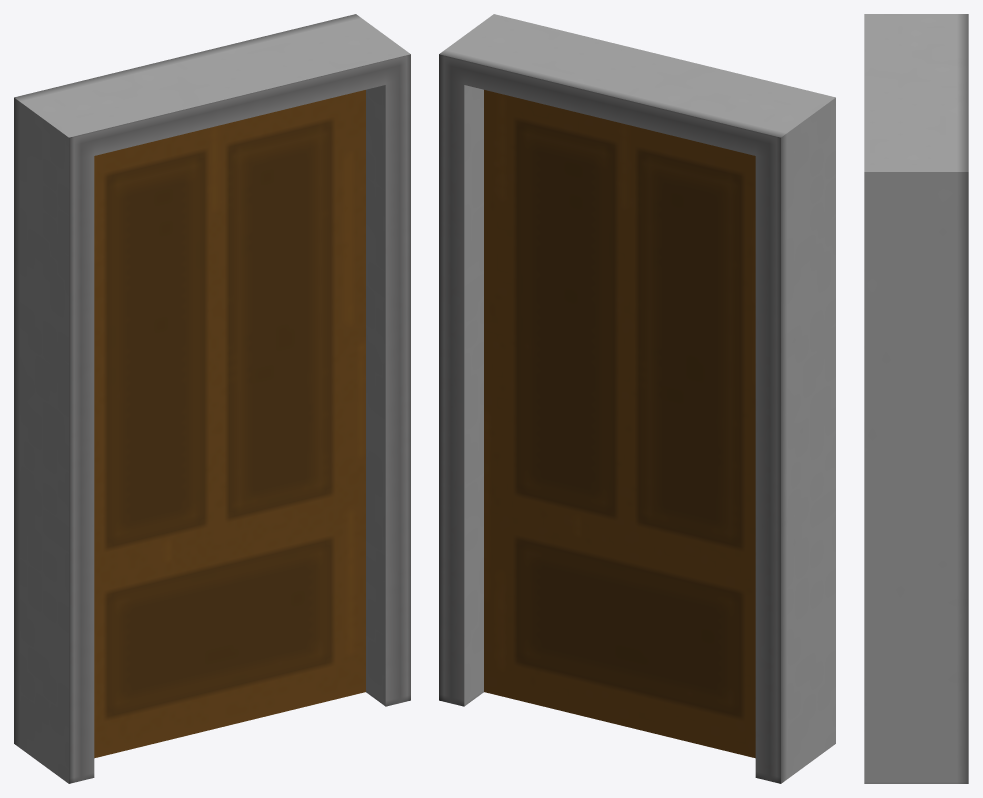
File: Door.fbx
The picture shows the model from 3 angles, left to right: view 1: azimuth 30°, elevation 25°; view 2: azimuth 150°, elevation 25°; view 3: azimuth 270°, elevation 25°; orthographic projection. The views are drawn at different scales.
Parts seen in each view (by area): view 1: Door, DoorFrame; view 2: Door, DoorFrame; view 3: DoorFrame.
Boxes of the visible parts, x1,y1,x2,y2 form: Door: [94, 90, 365, 758]; DoorFrame: [14, 14, 410, 783]; Door: [484, 90, 755, 758]; DoorFrame: [439, 14, 835, 783]; DoorFrame: [864, 14, 968, 783].
Size of the model in its own units: 2 by 3.61 by 0.5569.
2 materials, 2 textured.
